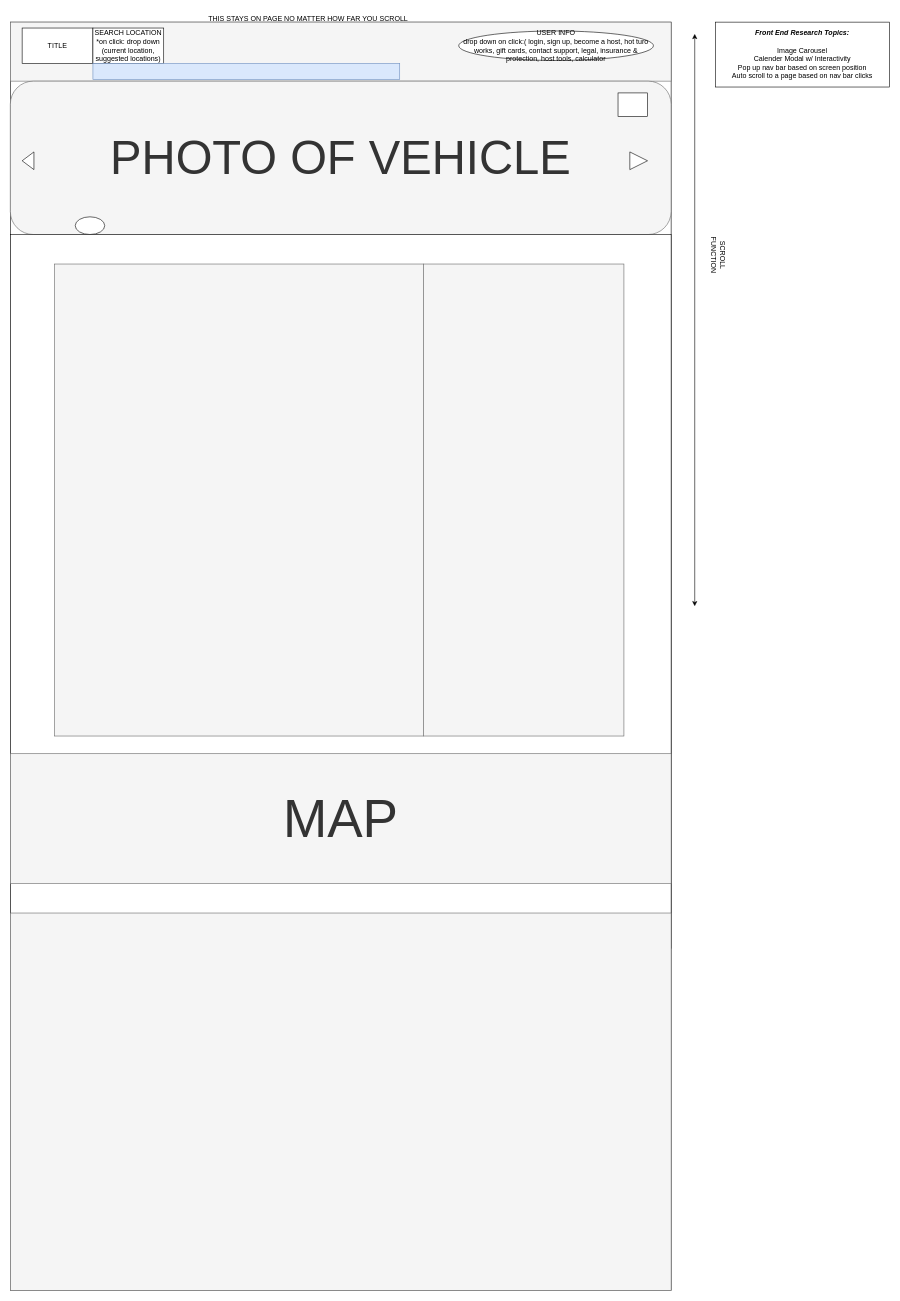
Some shapes in this 900 by 1301 pixel diagram are drawn without their labels. Here are the shapes that lost their labels. From the top down, the centre of each, then its label:
At (x=246, y=71): "*ONCE PAST IMAGE FOLLOWING TABS( OVERVIEW, FEATURES, REVIEWS, LOCATION )".
At (x=632, y=104): "LIKE ICON".
At (x=90, y=225): "1 OF XX".
